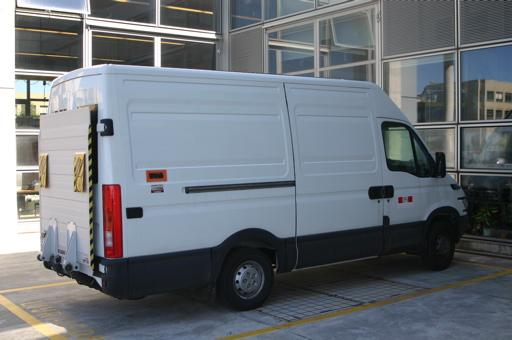truck: (38, 64, 470, 312)
